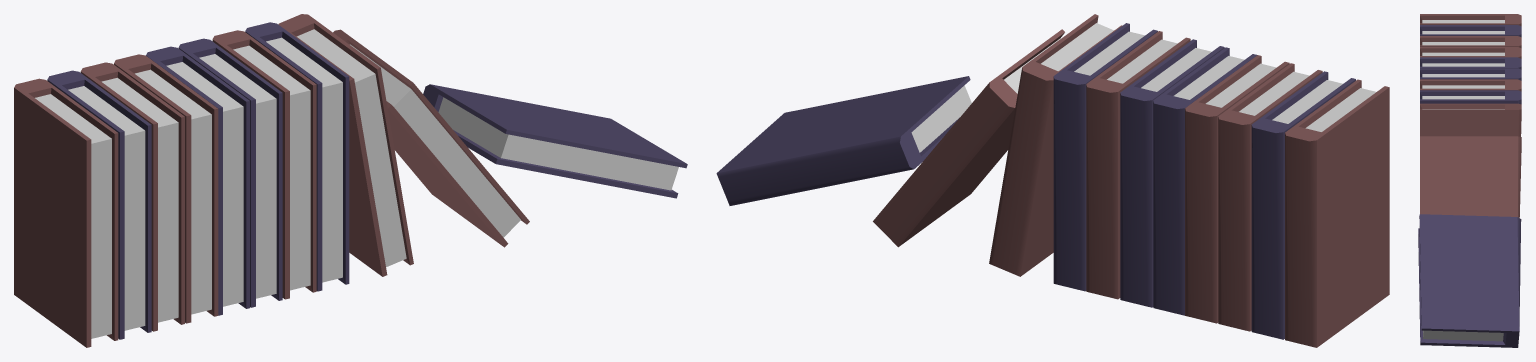
The model's file is horizontalbooks.fbx.
3 views of the same model, side by side, from view 1: azimuth 30°, elevation 25°; view 2: azimuth 150°, elevation 25°; view 3: azimuth 270°, elevation 25° (orthographic). The views are drawn at different scales.
Visible parts, largest first — view 1: group_pasted__pCube1; view 2: group_pasted__pCube1; view 3: group_pasted__pCube1.
Boxes of the visible parts, x1,y1,x2,y2 form: group_pasted__pCube1: (14, 14, 687, 347); group_pasted__pCube1: (716, 14, 1389, 347); group_pasted__pCube1: (1418, 14, 1521, 347).
Bounding box in the file's own units: 2.13 × 0.708 × 0.4686.
